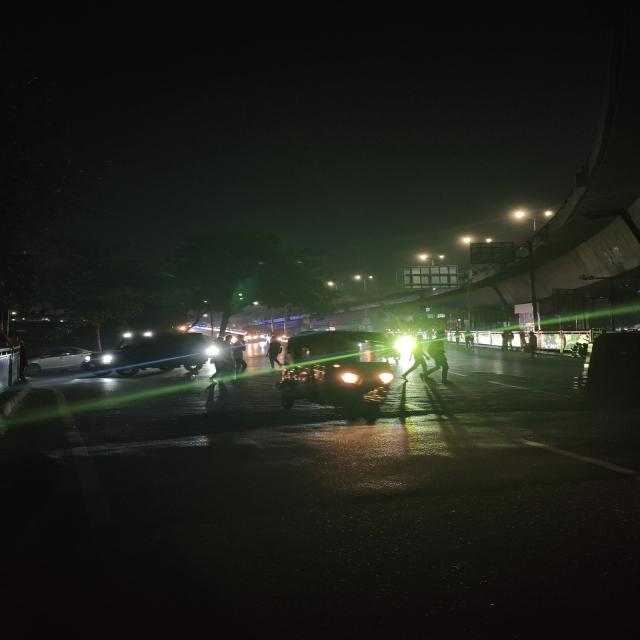bicycle: (461, 331, 477, 355)
car: (89, 332, 198, 379), (22, 341, 102, 378)
cng: (277, 328, 399, 412)
pedestrian: (225, 330, 253, 386), (406, 333, 430, 395), (432, 329, 454, 390), (213, 331, 234, 392), (260, 330, 282, 374), (523, 330, 542, 366)
